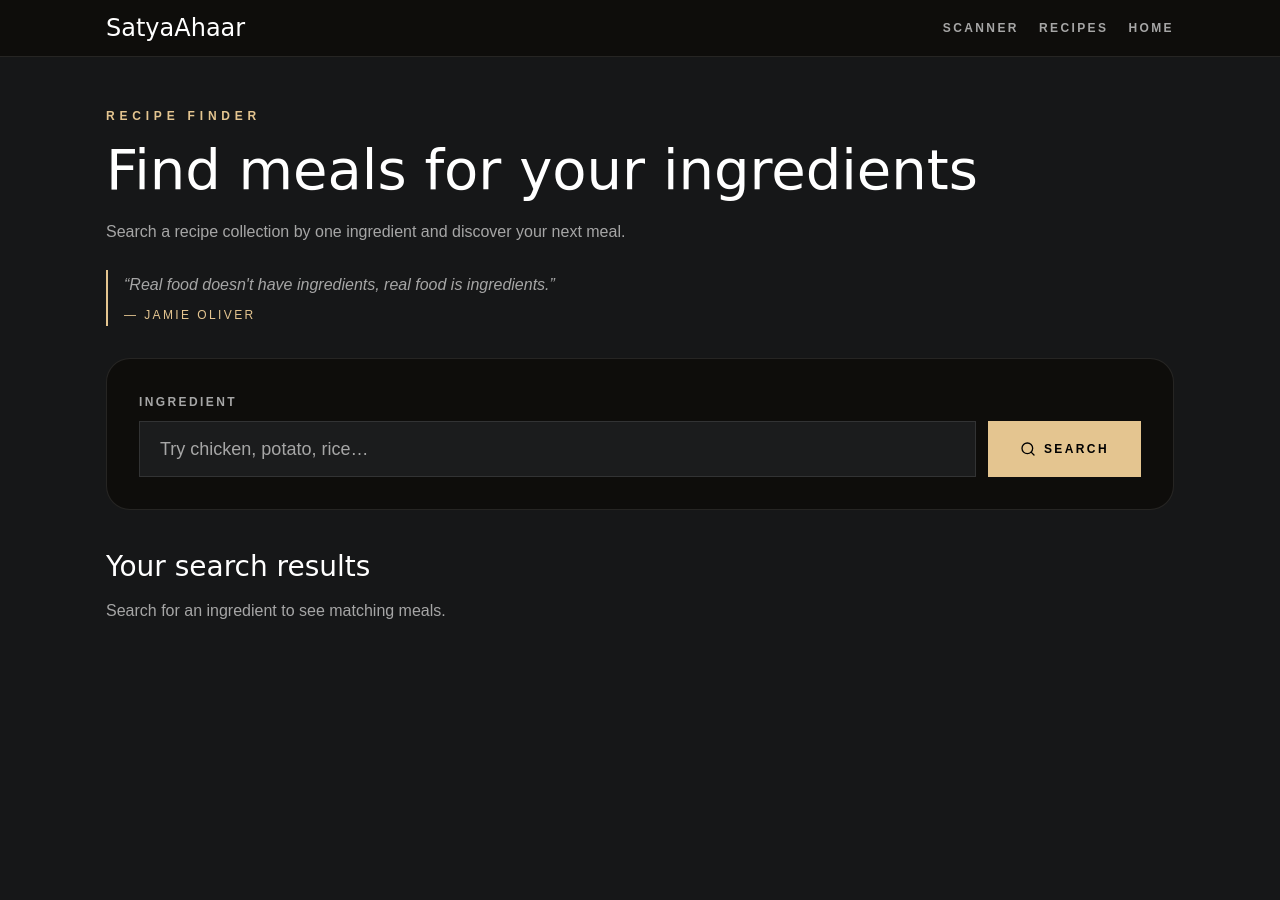
Test: RecipeSearchPage › validates an empty search locally
This screenshot has width=1280, height=900.
What coordinates should you click on to do the following:
click the button "Search"
I would click on:
 (1064, 449)
Its box is [988, 421, 1141, 477].
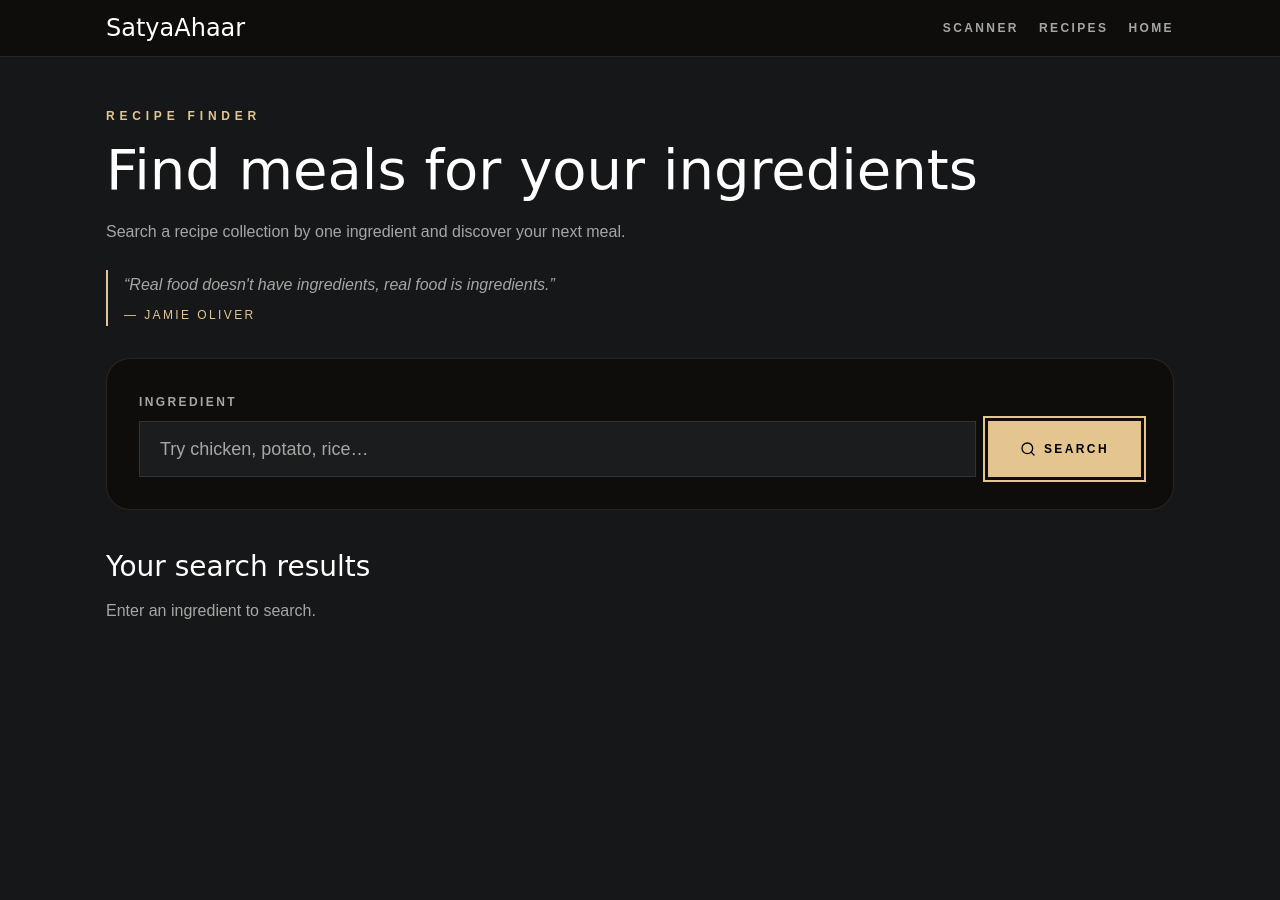
Now the text "Enter an ingredient to search." is shown, box [106, 602, 316, 619]
